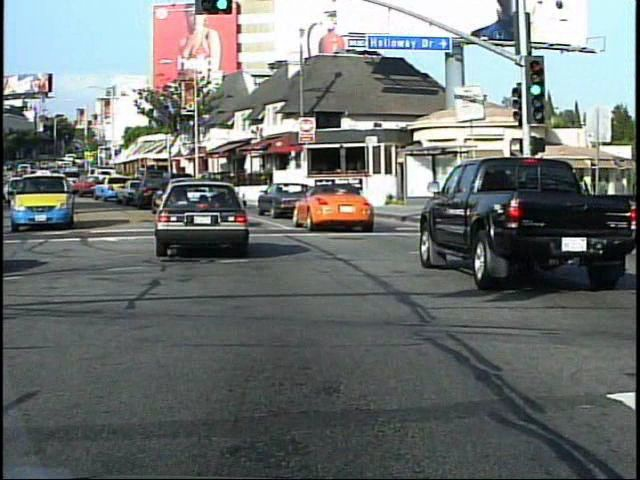person: (589, 185, 612, 254)
